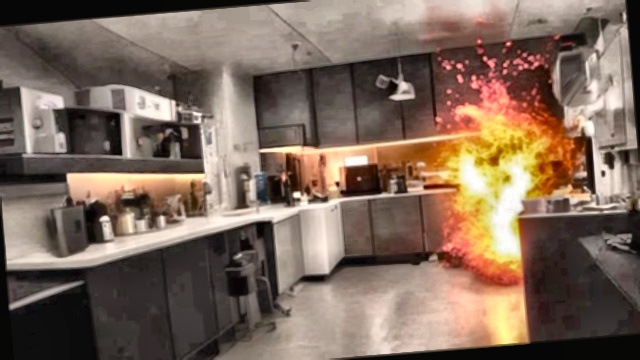fire: (422, 50, 598, 284)
